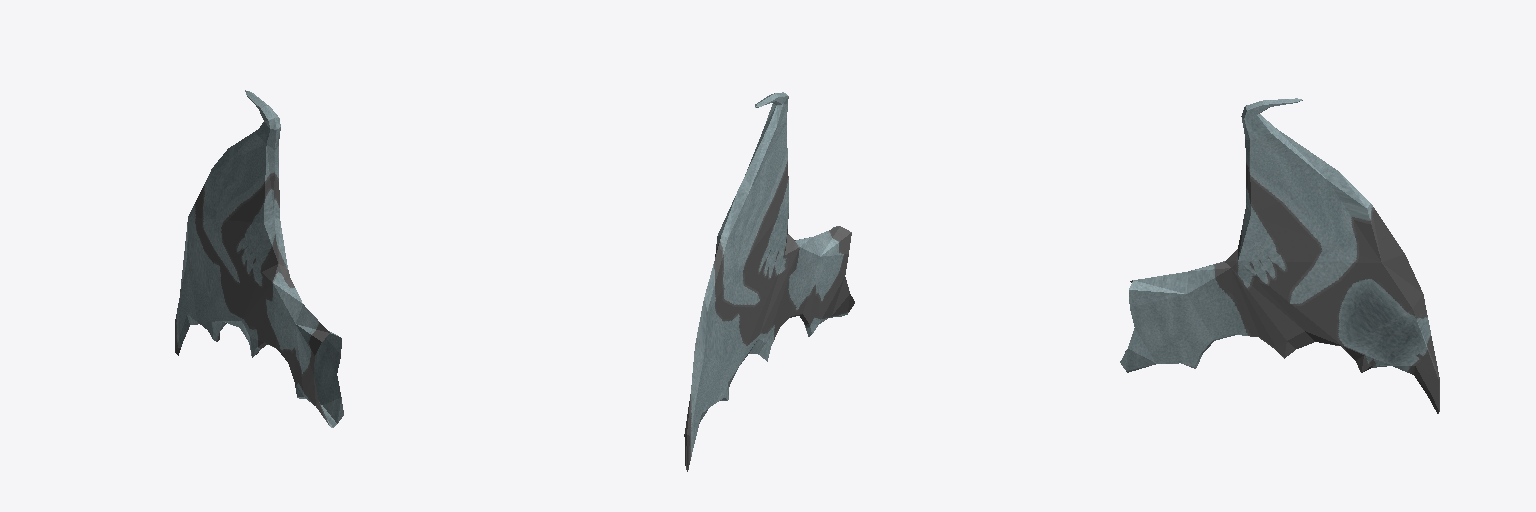
3 views of the same model, side by side, from view 1: azimuth 30°, elevation 25°; view 2: azimuth 150°, elevation 25°; view 3: azimuth 270°, elevation 25° (orthographic).
Visible parts, largest first — view 1: Wing_Left; view 2: Wing_Left; view 3: Wing_Left.
Part boxes in pixels (bbox=[...]): Wing_Left: bbox=[175, 90, 343, 427]; Wing_Left: bbox=[684, 92, 854, 471]; Wing_Left: bbox=[1120, 98, 1439, 413].
Size of the model in its own units: 2.91 by 39.68 by 36.38.
Materials: 1 (1 with a texture image).